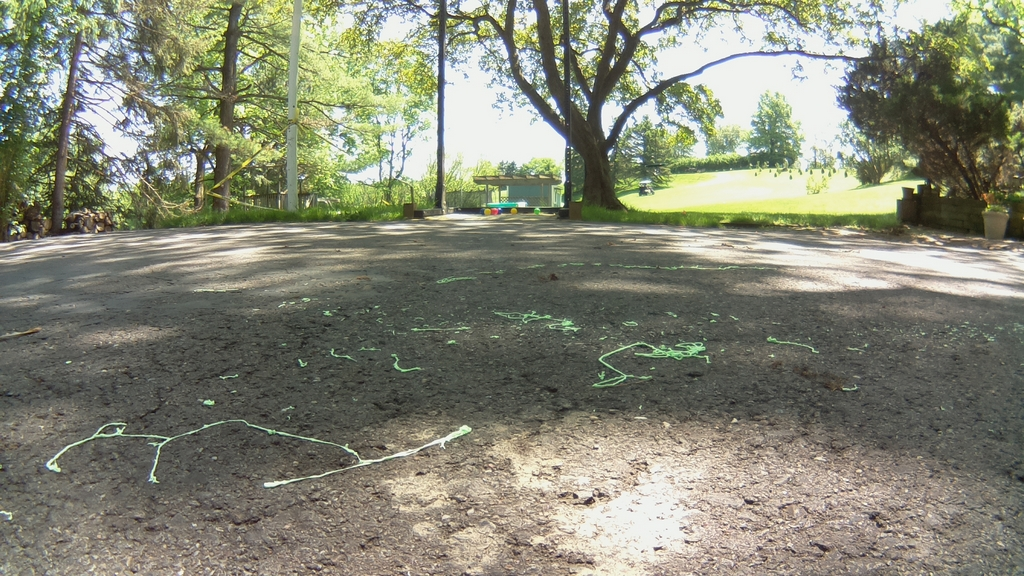ball: (481, 206, 487, 216)
